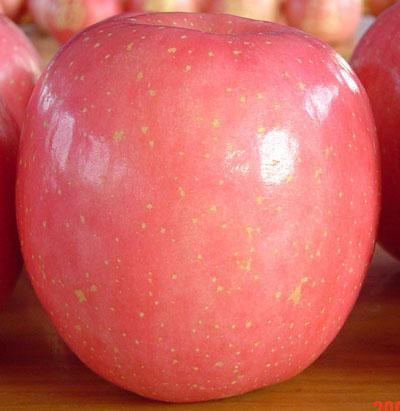apple: (12, 11, 381, 393)
